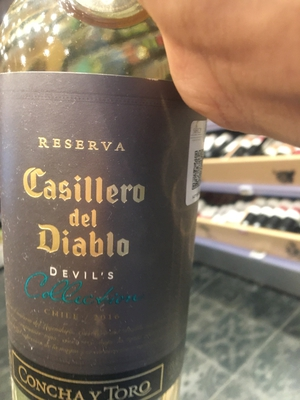casillero del diablo devils collection verde: (5, 15, 203, 400)
